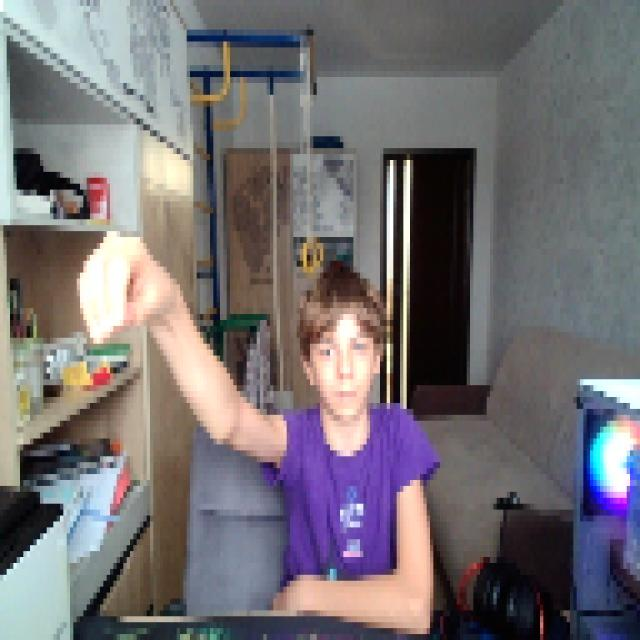left_click: (73, 225, 160, 338)
